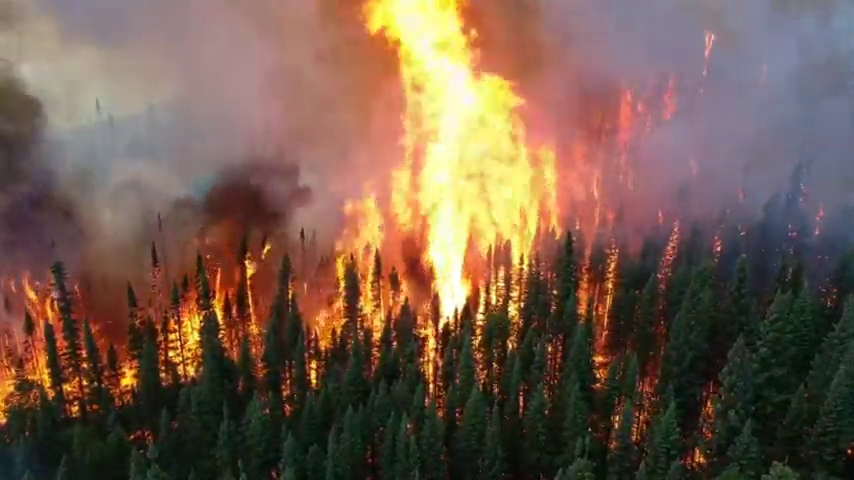forest_fire: (306, 0, 559, 391), (156, 240, 272, 380), (0, 275, 81, 413), (570, 241, 618, 368), (89, 327, 138, 399), (689, 447, 705, 464)
